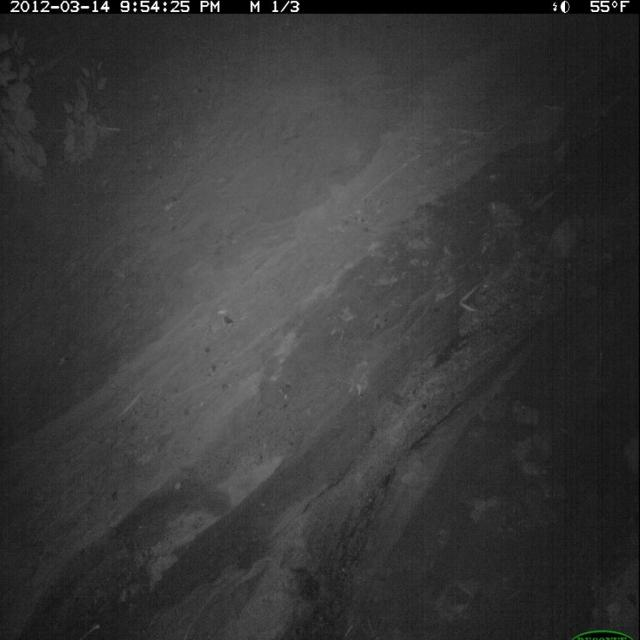opossum: (532, 207, 590, 299)
